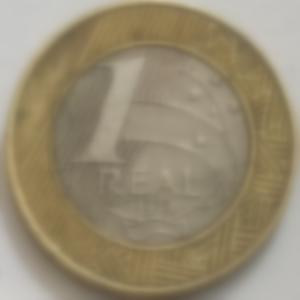1 real: (4, 0, 295, 299)
